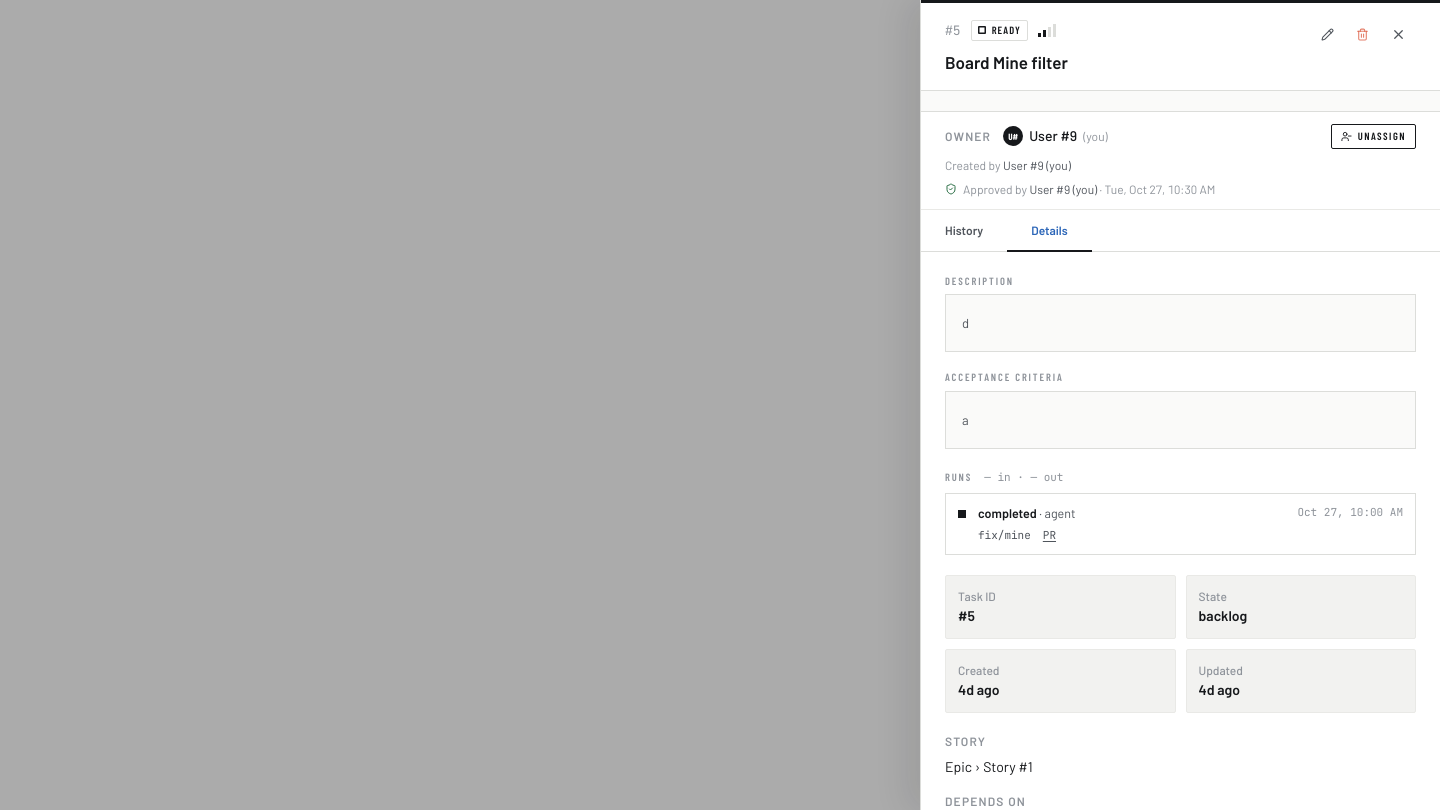
Test: TaskDrawer dispatch integrity › tags a watchdog return in history as returned to ready
Click the button "history". click: {"x": 964, "y": 231}
box: x1=921 y1=210 x2=1007 y2=252
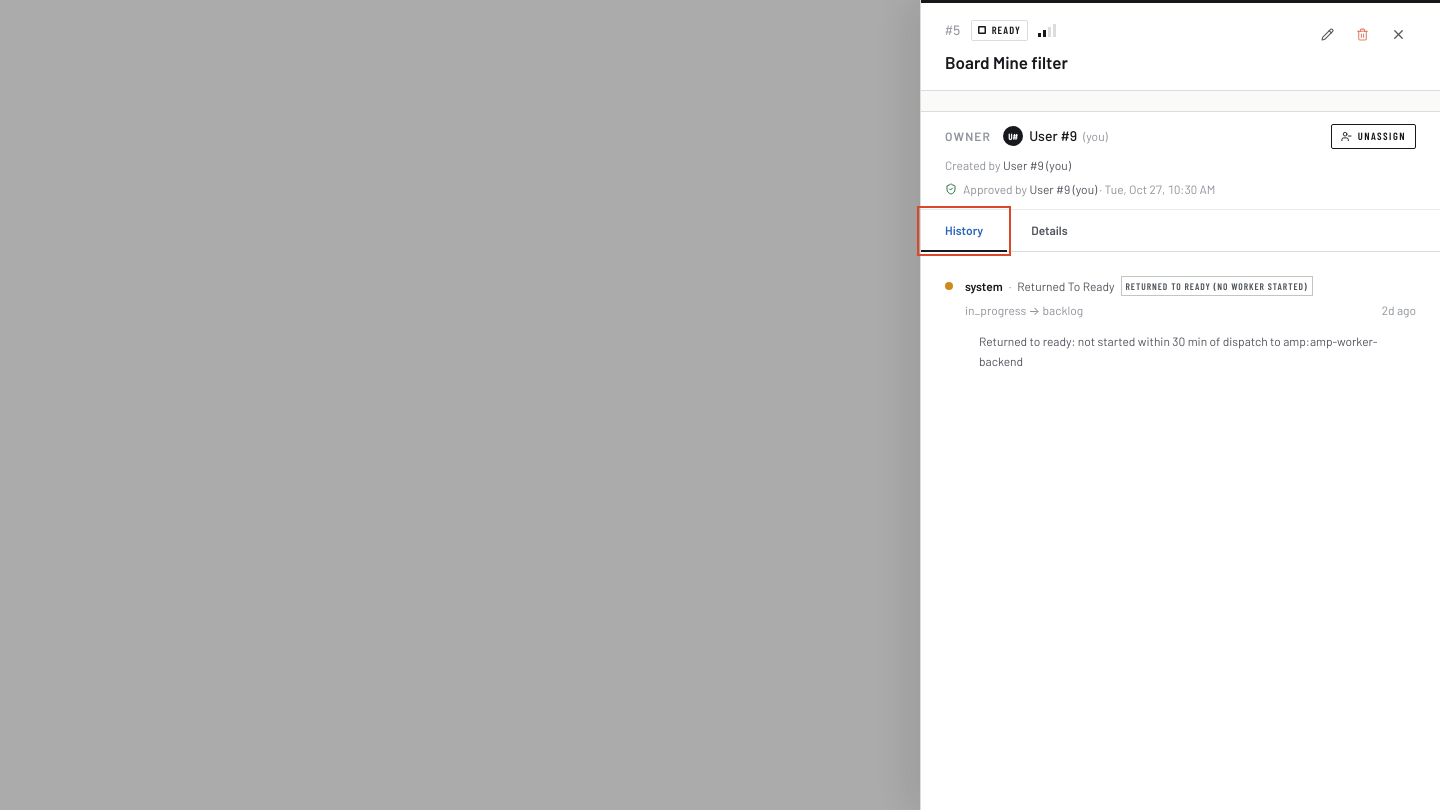
Check: the text "Returned to ready (no worker started)" is shown, box x1=1120 y1=276 x2=1312 y2=296
Check: the text "Returned to ready: not started within 30 min" is shown, box x1=979 y1=334 x2=1378 y2=368
